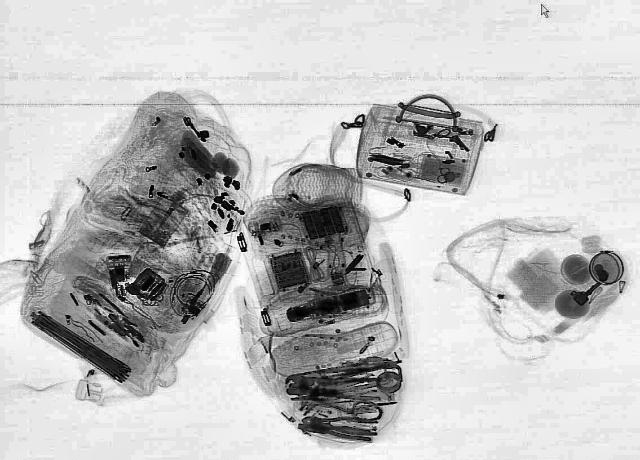Pliers: (284, 374, 388, 402), (298, 408, 379, 442)
